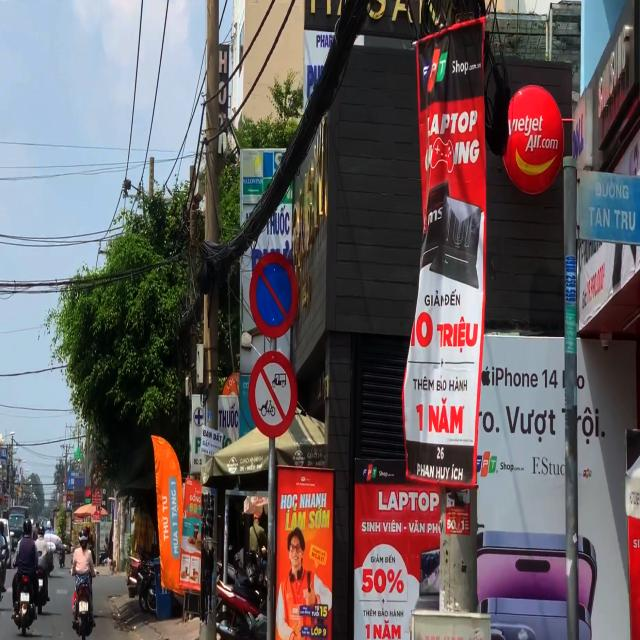Cam con lai: (247, 348, 299, 441)
Cam do: (249, 252, 298, 339)
